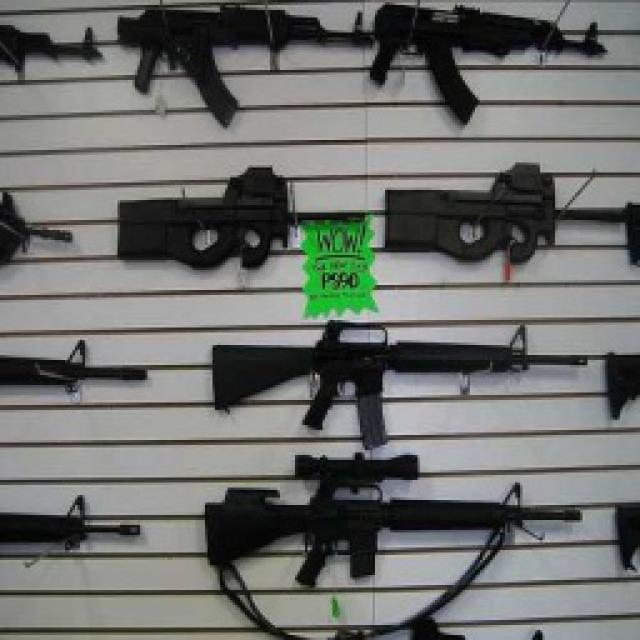long weapon: (208, 452, 585, 602), (199, 316, 586, 446), (364, 2, 620, 116), (103, 165, 305, 279), (97, 9, 346, 97), (376, 159, 568, 273), (8, 479, 147, 568), (24, 333, 150, 411)
